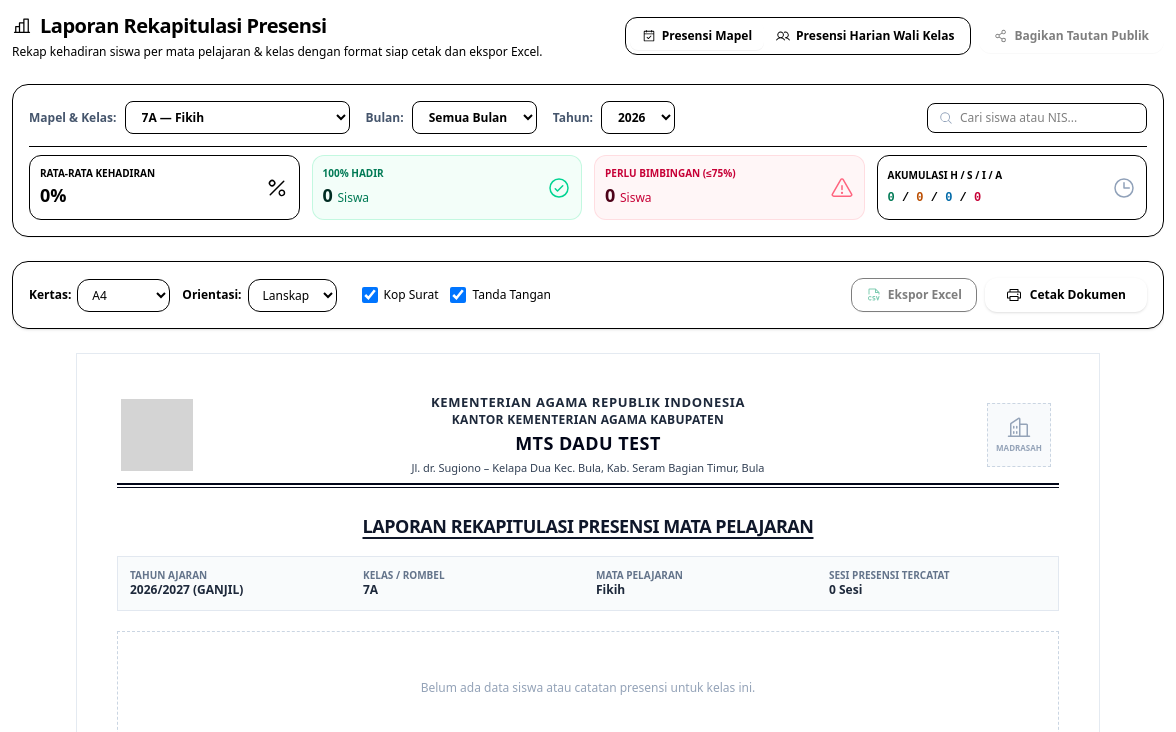
Test: AttendanceReportPage Denominator Semantics & Correctness › 9. Zero-enrollment behavior and report metadata do not invent recorded sessions when no records exist
Select "Oktober" in the dropdown next to "Bulan:" at x=474, y=118, box [412,101,537,134]
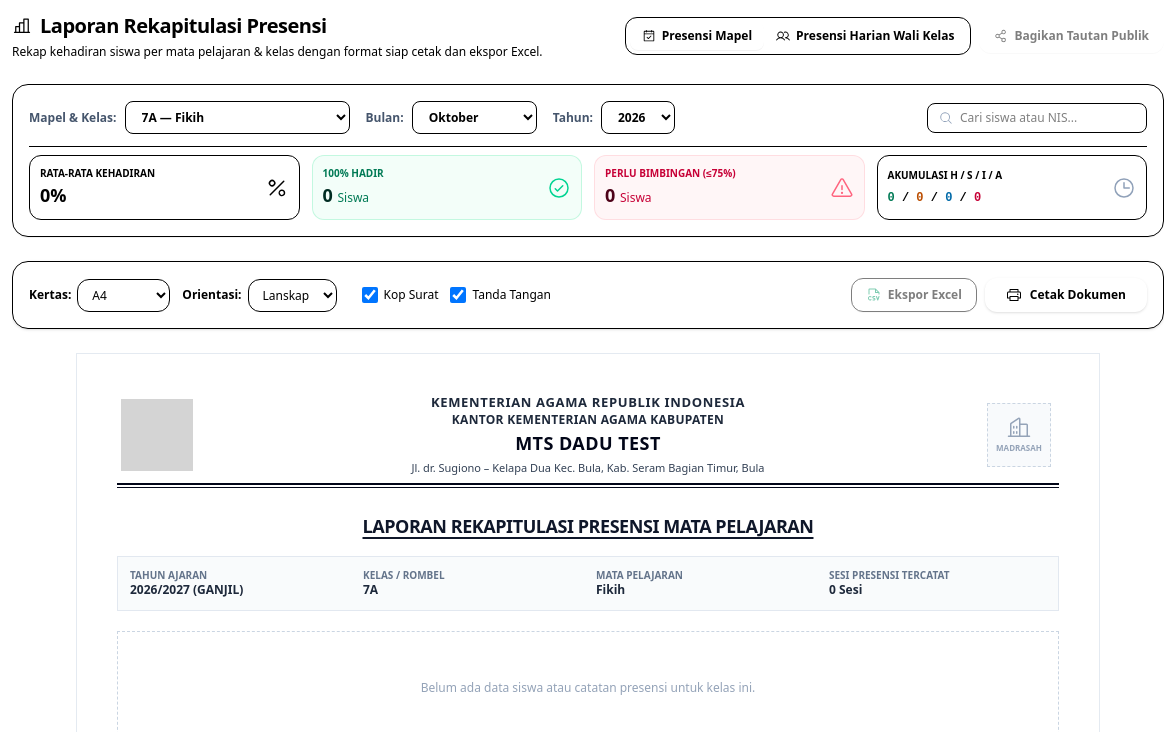
Expected: the text "0 Sesi" is shown, [829,582,862,598]
# In Homeroom mode with 10 daily records:
Click the button "Presensi Harian Wali Kelas" at x=865, y=36, box [764,22,966,50]
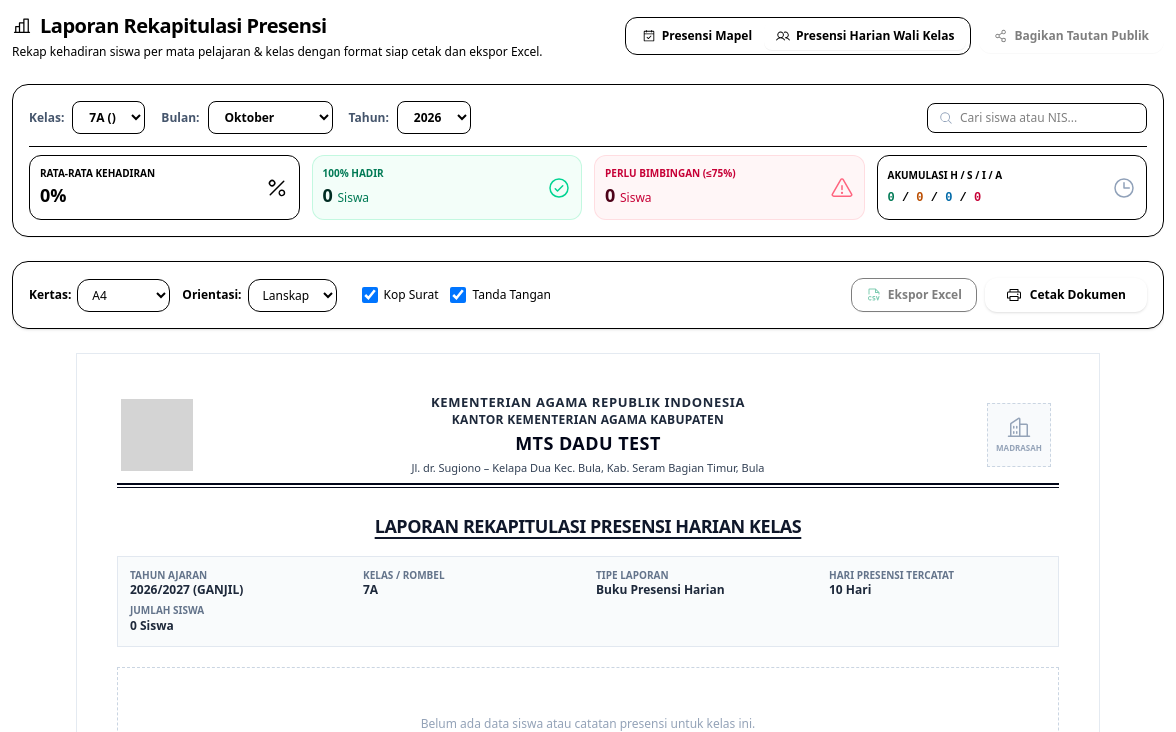
Result: the text "Hari Presensi Tercatat" is shown at [829,568,954,582]
Result: the text "10 Hari" is shown at [829,582,871,598]
